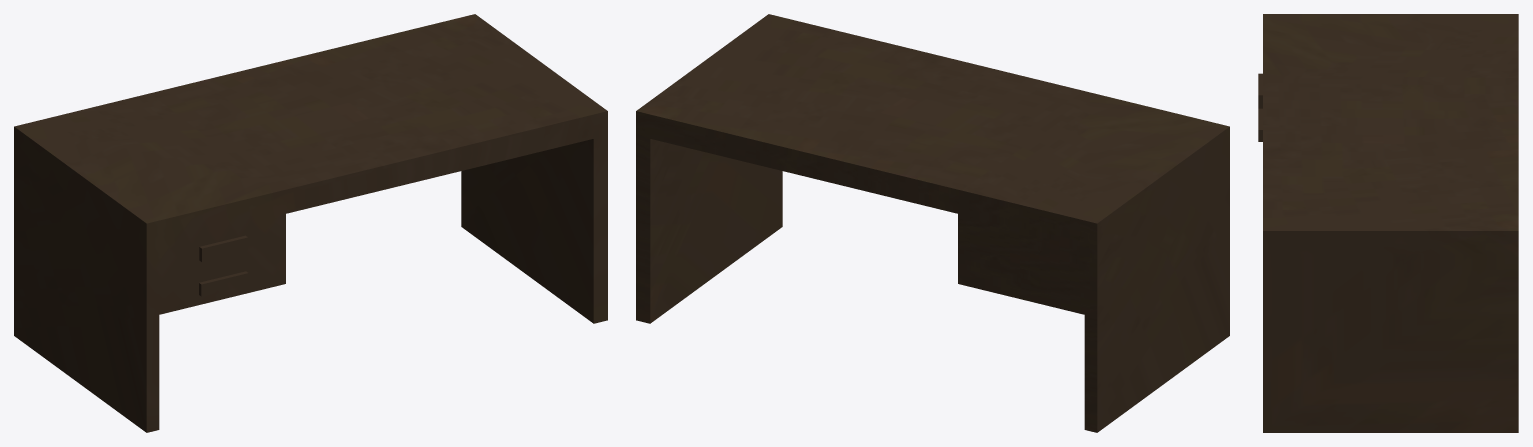
The model's file is Livingroom_table.fbx.
3 renders of one model, left to right at view 1: azimuth 30°, elevation 25°; view 2: azimuth 150°, elevation 25°; view 3: azimuth 270°, elevation 25°, orthographic. The views are drawn at different scales.
Parts seen in each view (by area): view 1: pCube32; view 2: pCube32; view 3: pCube32.
Part boxes in pixels (bbox=[...]): pCube32: bbox=[14, 14, 607, 432]; pCube32: bbox=[636, 14, 1229, 432]; pCube32: bbox=[1258, 14, 1518, 432].
Size of the model in its own units: 0.1222 by 0.053 by 0.062.
